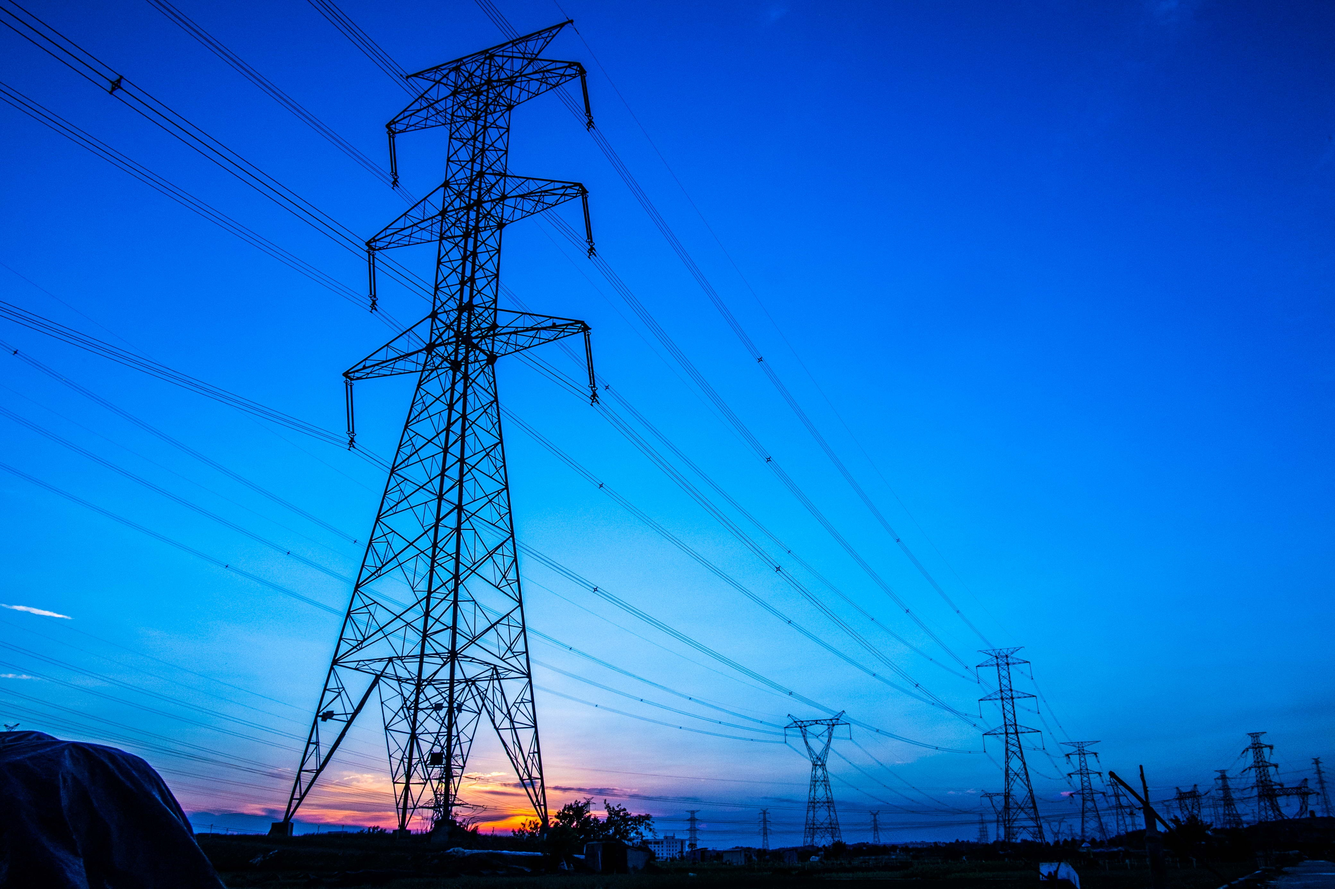insulator: (576, 322, 602, 408), (571, 186, 597, 260), (572, 64, 599, 127), (339, 371, 359, 452), (381, 123, 401, 190), (362, 245, 382, 310)
